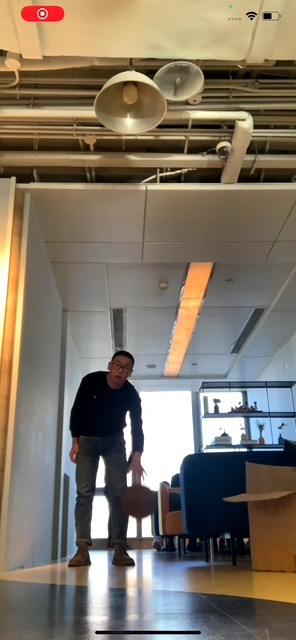ball: (123, 485, 156, 517)
